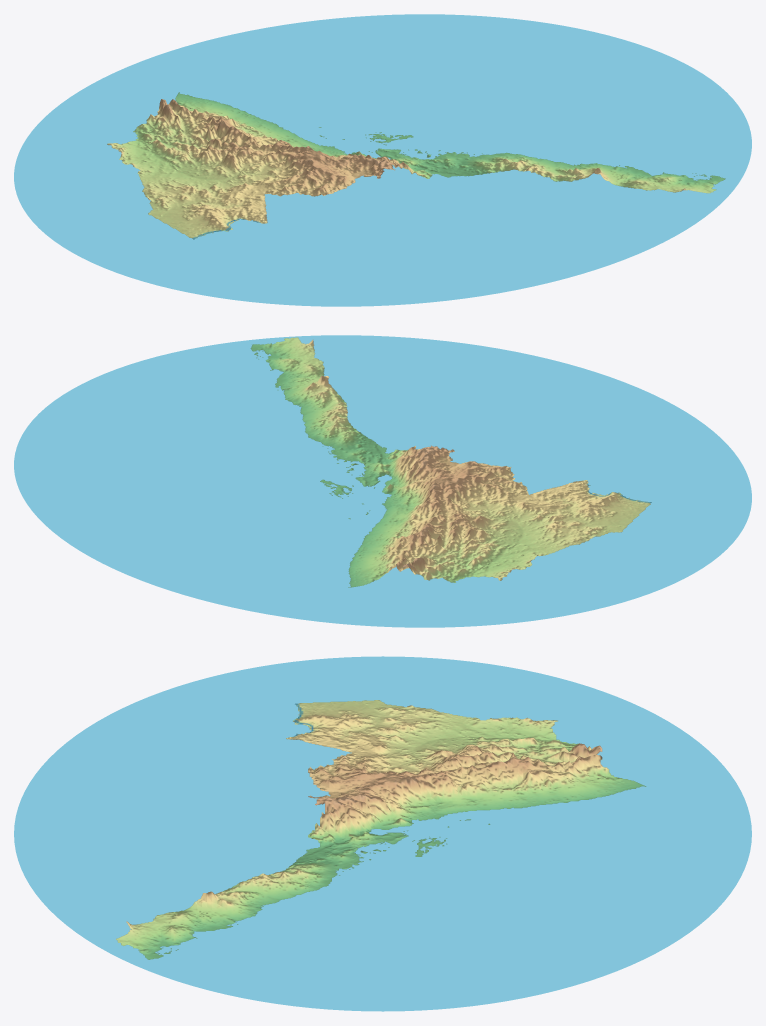
The model's file is ERI-terrain.glb.
3 views of the same model, one above another, from view 1: azimuth 30°, elevation 25°; view 2: azimuth 150°, elevation 25°; view 3: azimuth 270°, elevation 25° (orthographic). The views are drawn at different scales.
Visible parts, largest first — view 1: Relevo com hidrografia; view 2: Relevo com hidrografia; view 3: Relevo com hidrografia.
Boxes of the visible parts, x1=… form: Relevo com hidrografia: x1=14, y1=14, x2=751, y2=306; Relevo com hidrografia: x1=14, y1=335, x2=751, y2=627; Relevo com hidrografia: x1=14, y1=656, x2=751, y2=1011.
Bounding box in the file's own units: 2.23 × 0.0702 × 1.96.
Materials: 2 (1 with a texture image).
